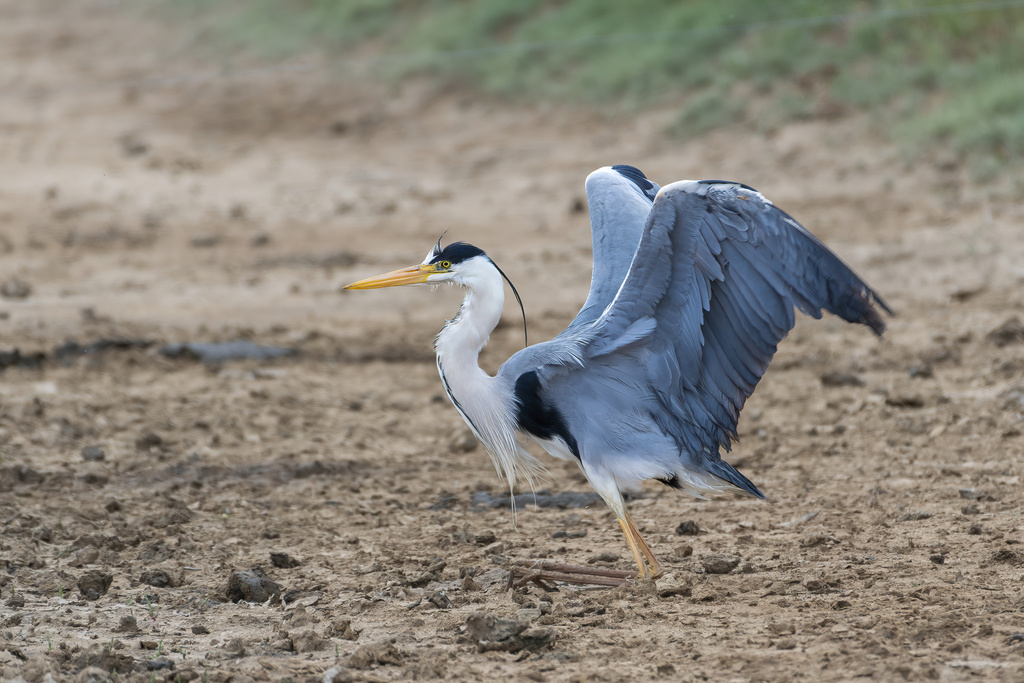heron: (340, 162, 900, 597)
